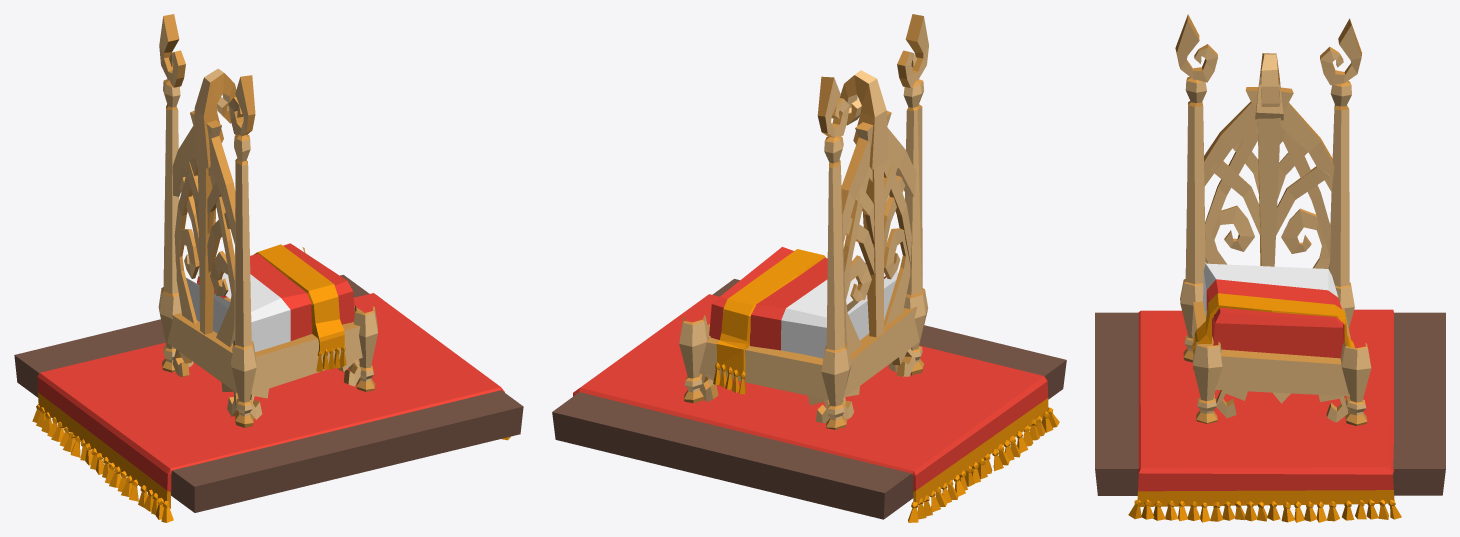
File: throne.glb
The picture shows the model from 3 angles, left to right: view 1: azimuth 30°, elevation 25°; view 2: azimuth 150°, elevation 25°; view 3: azimuth 270°, elevation 25°; orthographic projection. The views are drawn at different scales.
Visible parts, largest first — view 1: group1552030417, group1725234602, group1575677663, group1029287846; view 2: group1552030417, group1725234602, group1575677663, group1029287846; view 3: group1552030417, group1725234602, group1575677663, group1557277245.
Part boxes in pixels (x1=…): group1552030417: x1=158, y1=14, x2=377, y2=427; group1725234602: x1=37, y1=293, x2=504, y2=508; group1575677663: x1=14, y1=274, x2=523, y2=512; group1029287846: x1=32, y1=404, x2=173, y2=522; group1552030417: x1=679, y1=14, x2=928, y2=429; group1725234602: x1=573, y1=294, x2=1048, y2=503; group1575677663: x1=552, y1=279, x2=1066, y2=519; group1029287846: x1=908, y1=407, x2=1059, y2=522; group1552030417: x1=1175, y1=14, x2=1371, y2=425; group1725234602: x1=1137, y1=309, x2=1394, y2=506; group1575677663: x1=1095, y1=312, x2=1445, y2=495; group1557277245: x1=1128, y1=499, x2=1401, y2=522.
Bounding box in the file's own units: 5.8 × 6.28 × 5.09.
